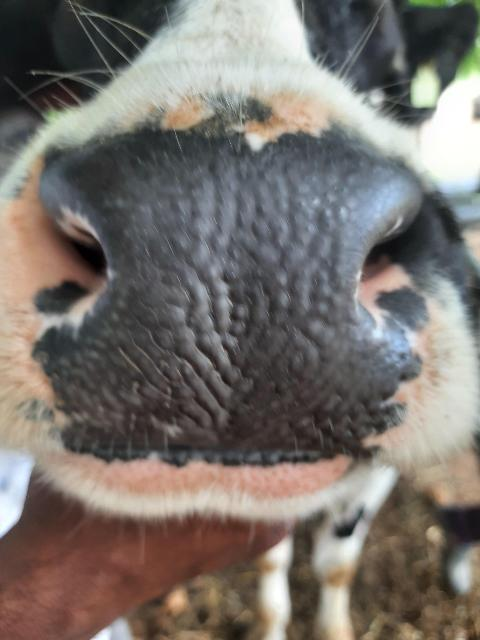Muzzle: (115, 162, 339, 426)
